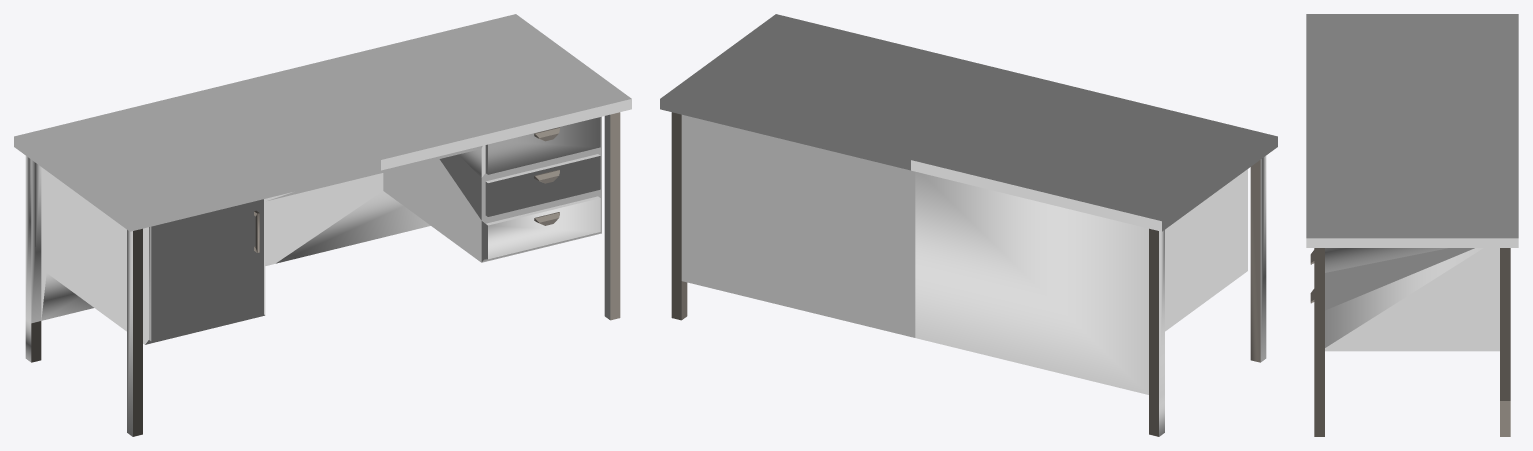
File: lab_table.fbx
3 views of the same model, side by side, from view 1: azimuth 30°, elevation 25°; view 2: azimuth 150°, elevation 25°; view 3: azimuth 270°, elevation 25° (orthographic). The views are drawn at different scales.
Parts seen in each view (by area): view 1: Lab_table; view 2: Lab_table; view 3: Lab_table.
Part boxes in pixels (left/top/right/bottom): Lab_table: left=14, top=14, right=631, bottom=436; Lab_table: left=660, top=14, right=1277, bottom=436; Lab_table: left=1306, top=14, right=1518, bottom=436.
Bounding box in the file's own units: 200 × 84 × 80.
1 material, 1 textured.
